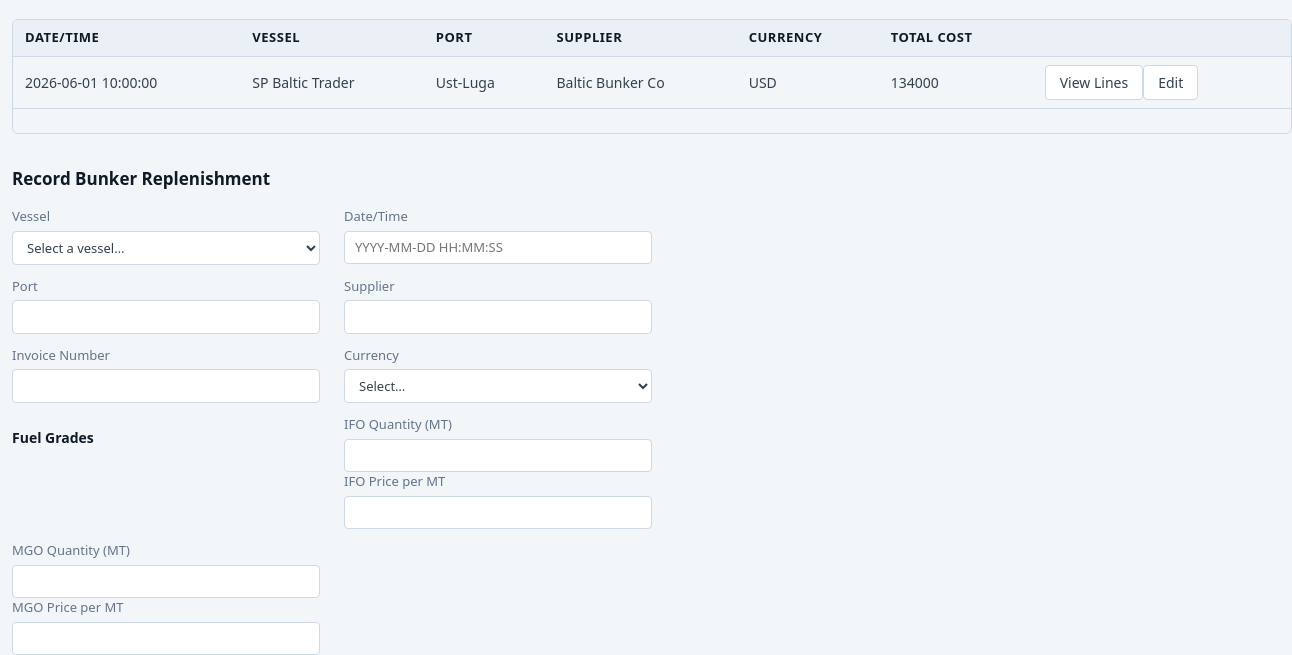
BunkerReplenishmentsPage › lets the operator edit a replenishment and submits a PUT
The width and height of the screenshot is (1292, 655).
Expected: the text "Ust-Luga" is shown, [424,56,544,108]
Click the button "Edit". click: (1171, 82)
box: [1143,64,1198,100]
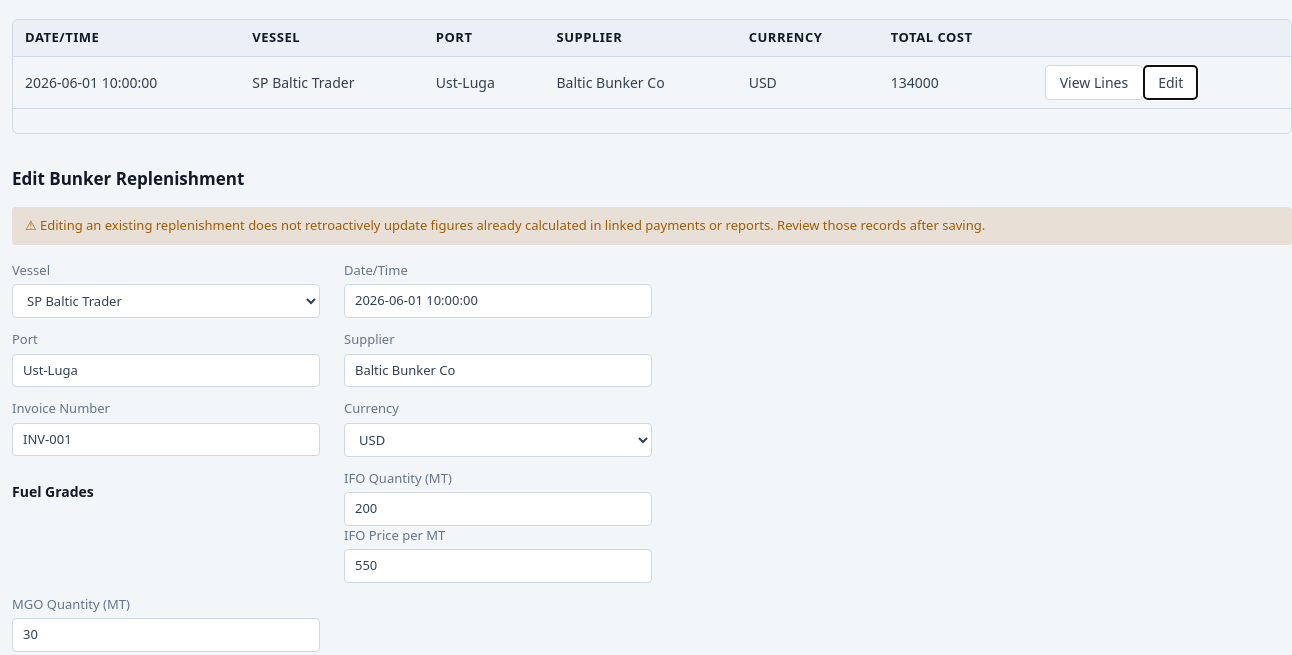
Replace the text in the field labelled "Supplier" with "Corrected Supplier Ltd". click: (498, 370)
box: [344,354,652,387]
(page scrolled)
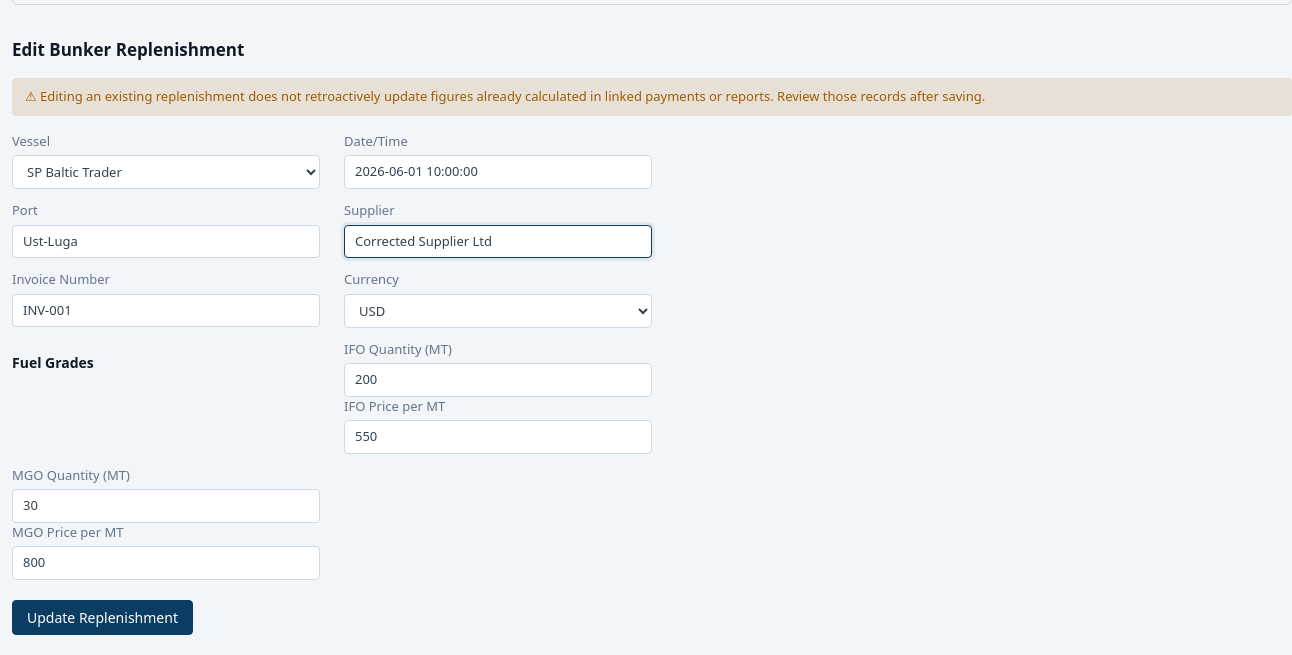
Click the button "Update Replenishment". click: (102, 617)
box: [12,600,193,634]
(page scrolled)
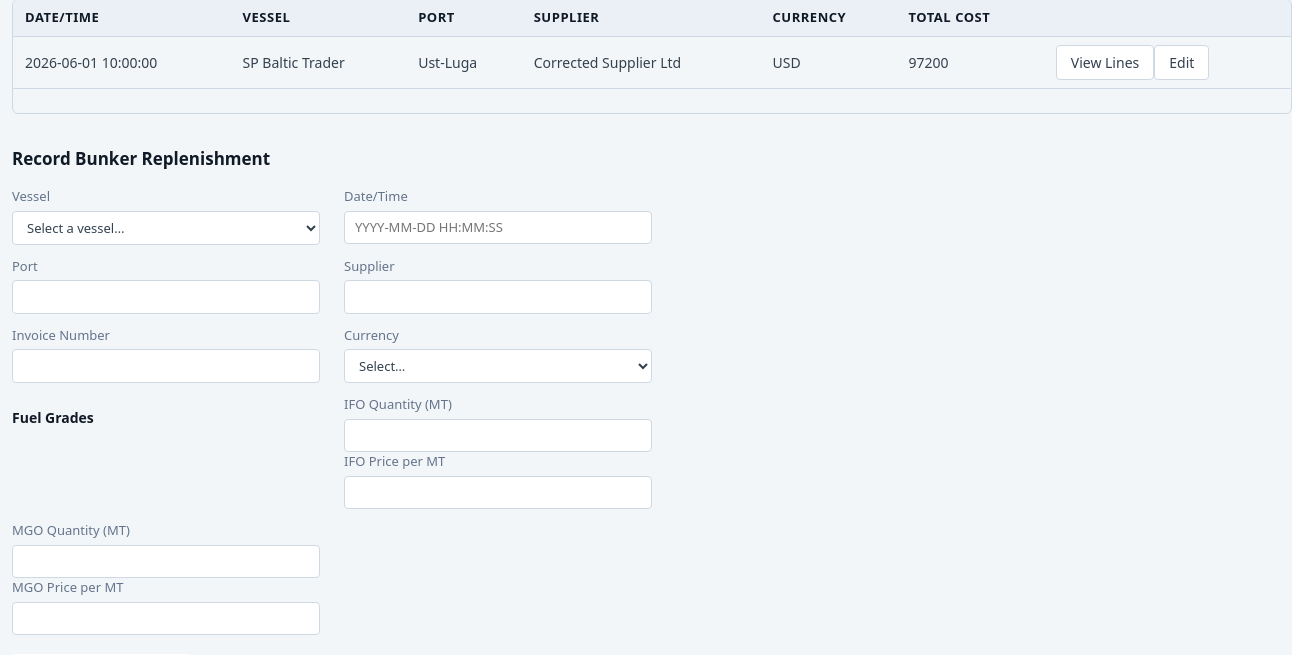
Result: the cell "Corrected Supplier Ltd" is shown at [522,36,760,88]
